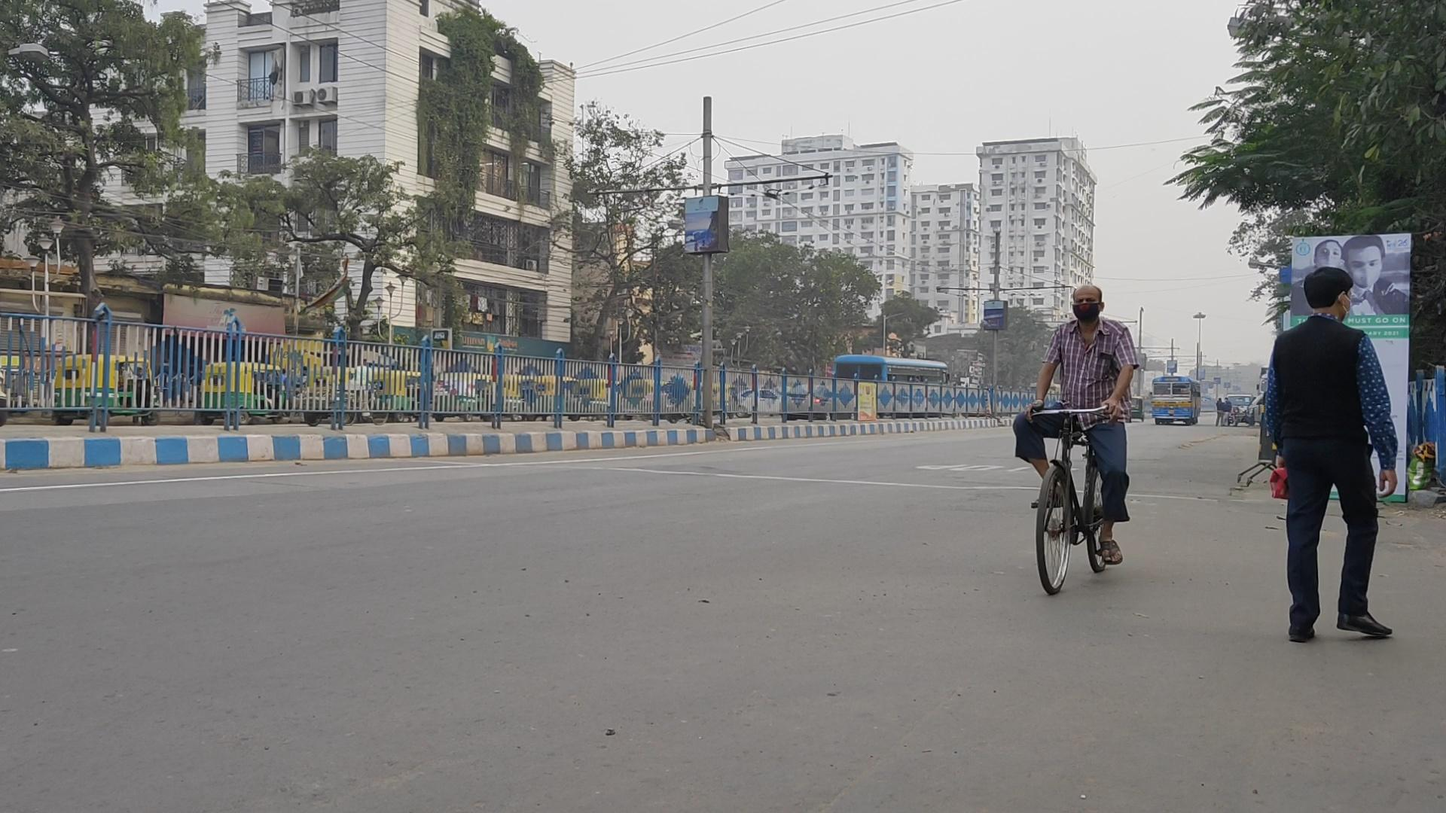Auto: (1126, 395, 1145, 423)
Bus: (1151, 376, 1202, 426)
bike: (1016, 285, 1138, 595)
car: (1225, 392, 1256, 428)
